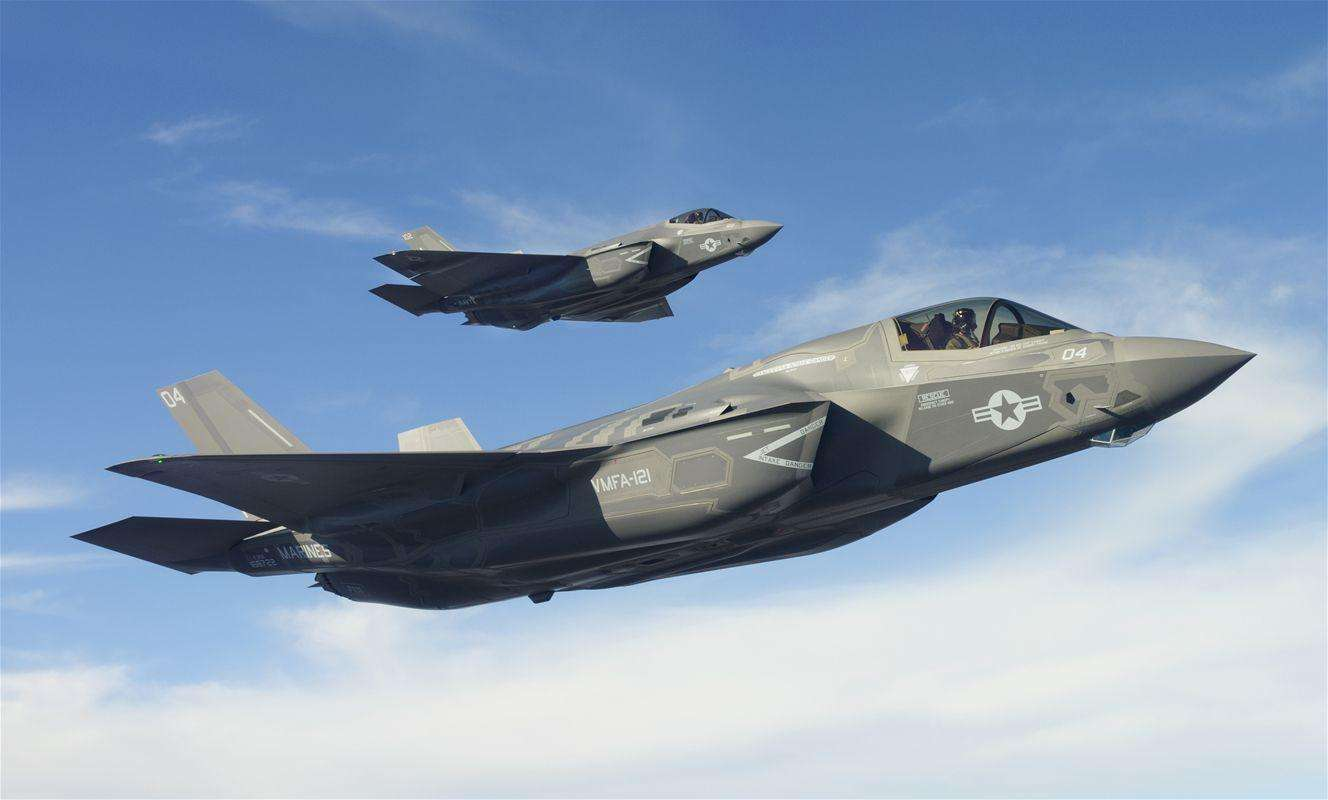airplane: (68, 293, 1260, 614), (365, 206, 785, 332)
